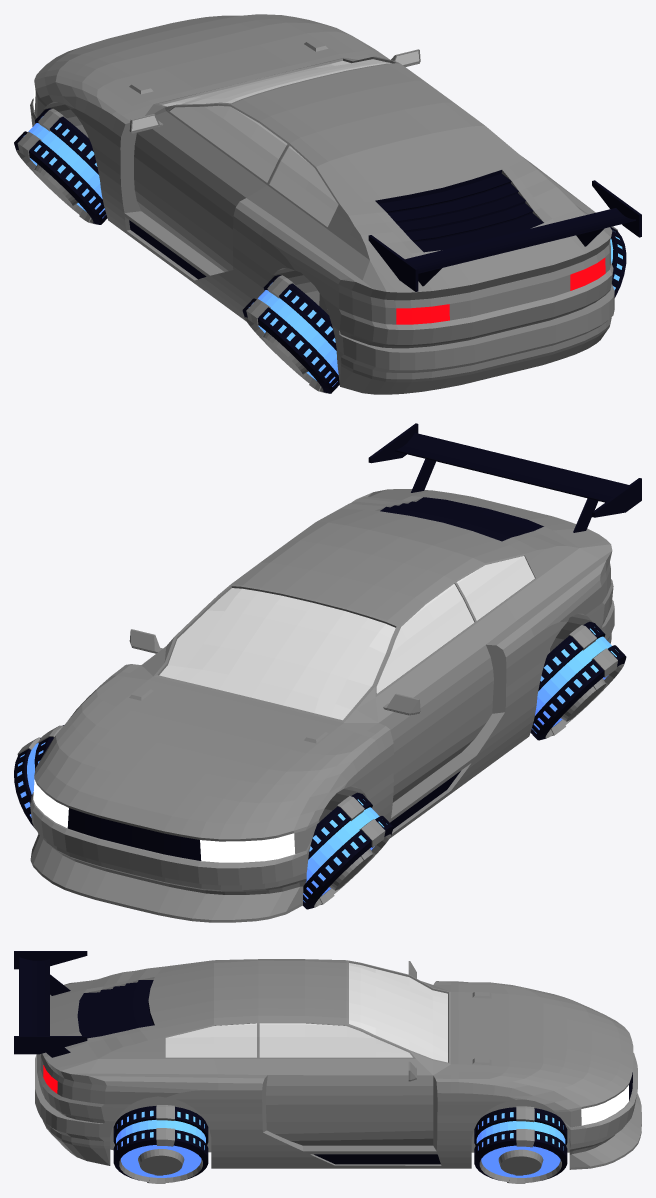
3 views of the same model, one above another, from view 1: azimuth 30°, elevation 25°; view 2: azimuth 150°, elevation 25°; view 3: azimuth 270°, elevation 25° (orthographic). The views are drawn at different scales.
Parts seen in each view (by area): view 1: Updated; view 2: Updated; view 3: Updated.
Boxes of the visible parts, x1,y1,x2,y2 form: Updated: (14,14,641,394); Updated: (14,423,641,922); Updated: (14,951,641,1183).
Size of the model in its own units: 4.16 by 2.18 by 8.04.
7 materials, 1 textured.
